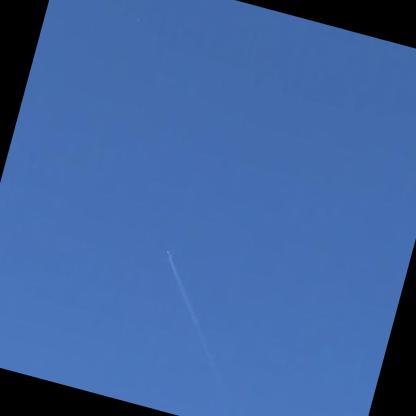plane: (160, 246, 172, 258)
